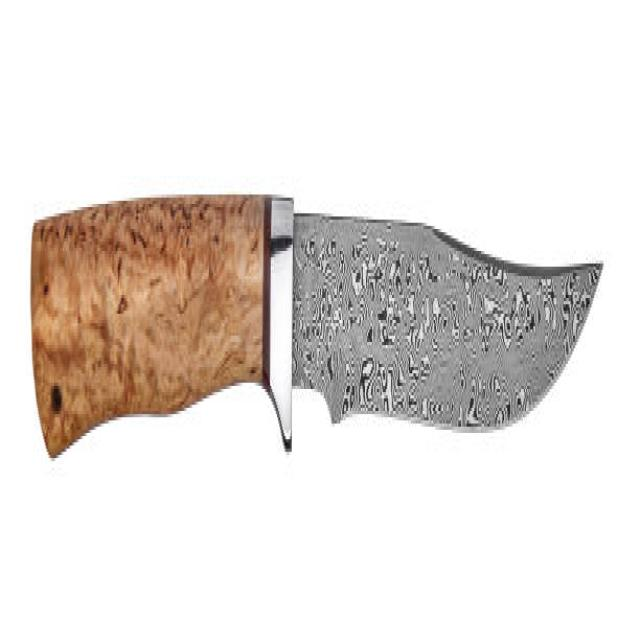knife: (28, 196, 606, 465)
